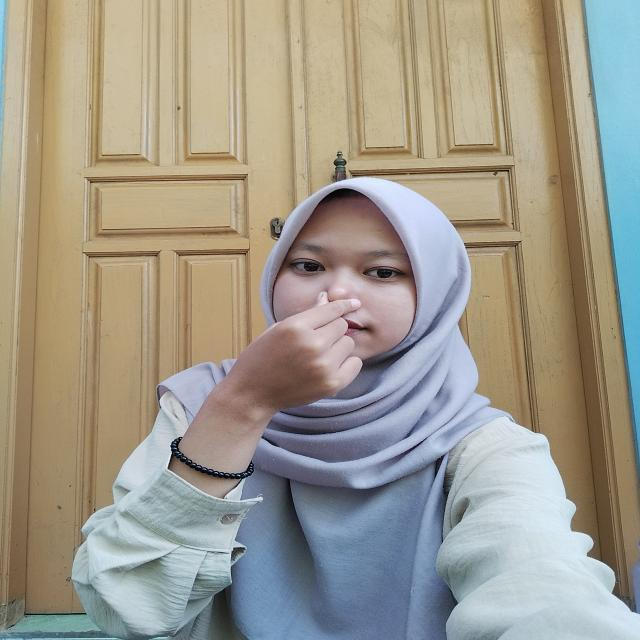bau: (199, 281, 371, 426)
